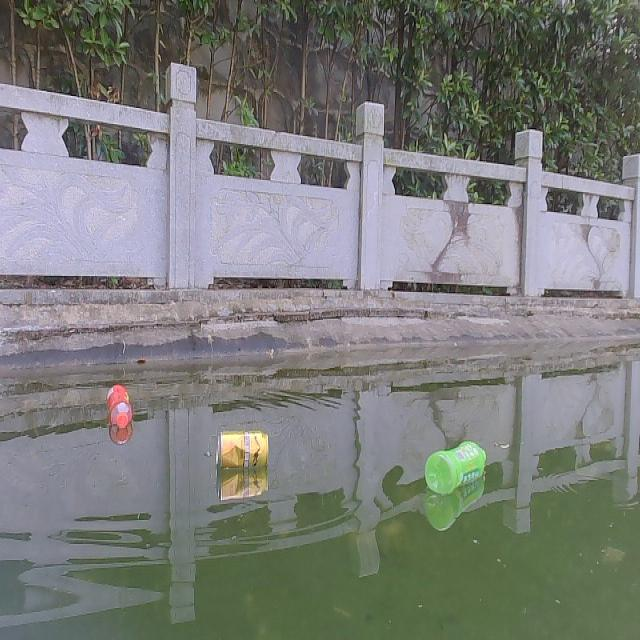Bottle: (424, 439, 485, 492), (106, 382, 132, 429)
Can: (214, 427, 270, 469)
